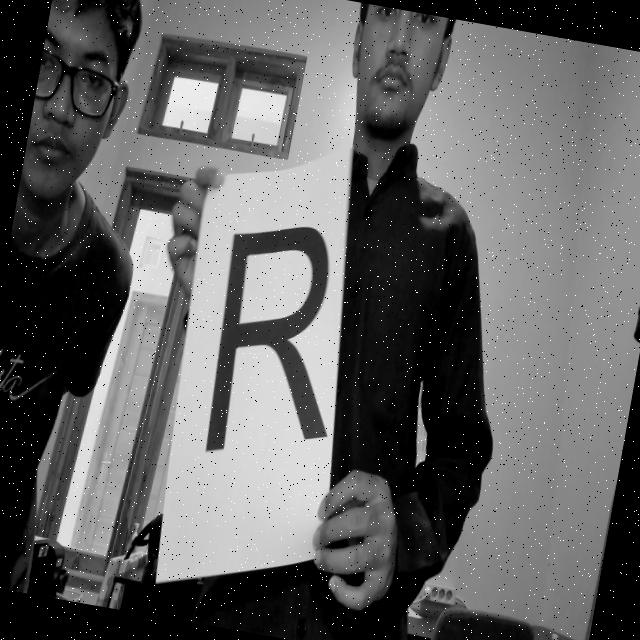r: (170, 198, 386, 522)
